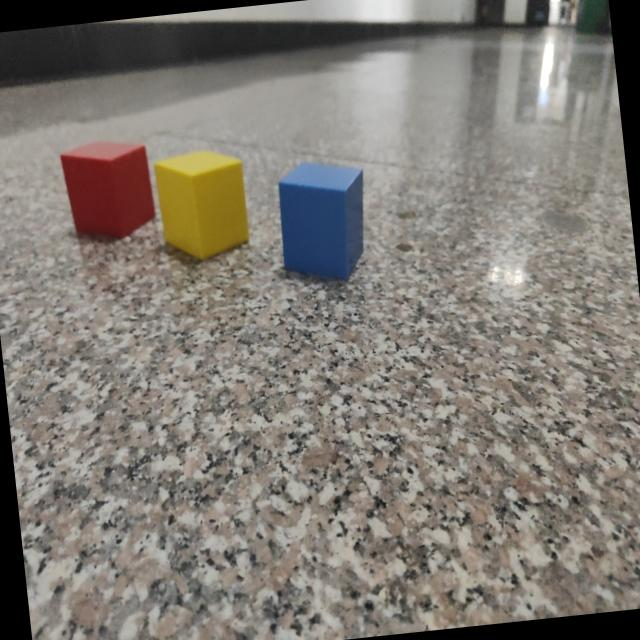blue: (277, 161, 365, 282)
red: (60, 142, 158, 241)
yellow: (154, 151, 250, 262)
